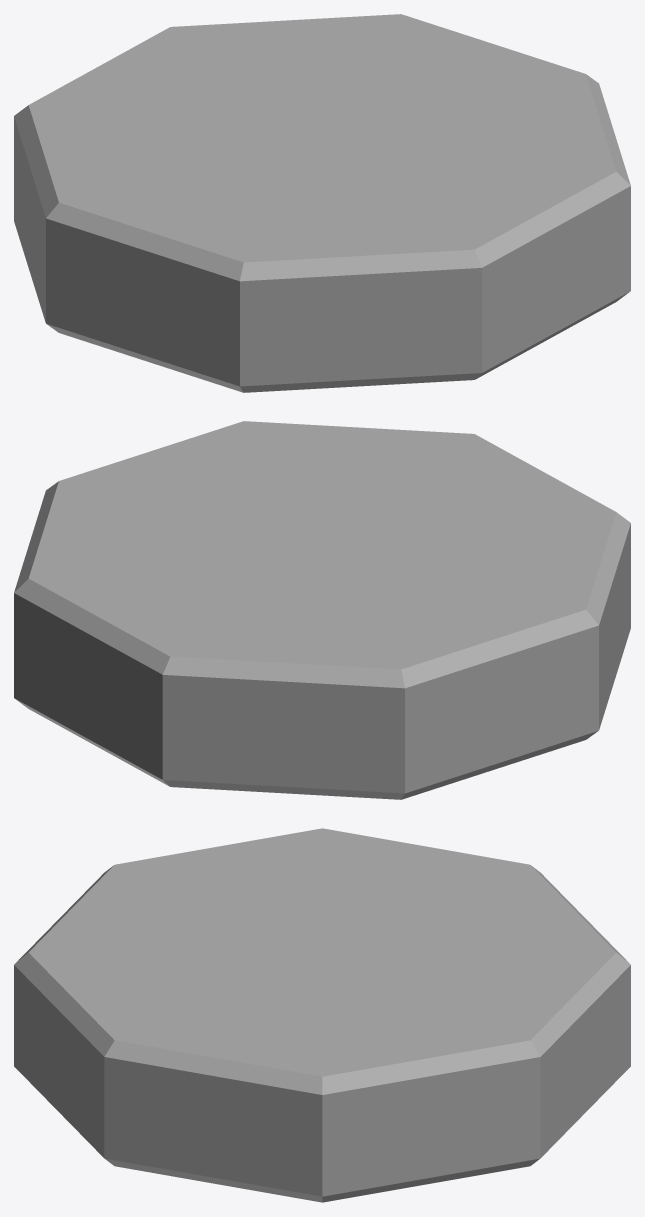
Rendered from SM_Props_Interior_Shop_Light_CeilingLight_02.fbx.
The picture shows the model from 3 angles, top to bottom: view 1: azimuth 30°, elevation 25°; view 2: azimuth 150°, elevation 25°; view 3: azimuth 270°, elevation 25°; orthographic projection. The views are drawn at different scales.
Visible parts, largest first — view 1: SM_Props_Interior_Shop_Light_CeilingLight_02; view 2: SM_Props_Interior_Shop_Light_CeilingLight_02; view 3: SM_Props_Interior_Shop_Light_CeilingLight_02.
Boxes of the visible parts, x1,y1,x2,y2 form: SM_Props_Interior_Shop_Light_CeilingLight_02: (14,14,630,392); SM_Props_Interior_Shop_Light_CeilingLight_02: (14,421,630,799); SM_Props_Interior_Shop_Light_CeilingLight_02: (14,828,630,1202).
Size of the model in its own units: 40 by 9.16 by 40.
